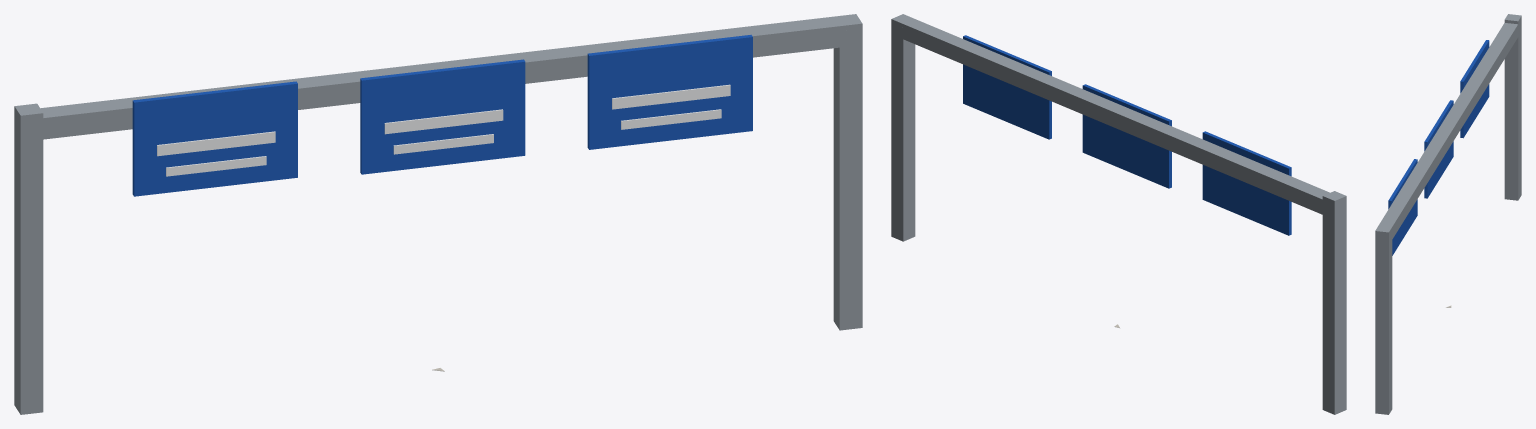
File: apt_gantry.glb
3 renders of one model, left to right at view 1: azimuth 30°, elevation 25°; view 2: azimuth 150°, elevation 25°; view 3: azimuth 270°, elevation 25°, orthographic. The views are drawn at different scales.
Visible parts, largest first — view 1: apt_gantry_lod0; view 2: apt_gantry_lod0; view 3: apt_gantry_lod0.
Boxes of the visible parts, left/top/right/bottom form: apt_gantry_lod0: left=14, top=14, right=862, bottom=414; apt_gantry_lod0: left=891, top=14, right=1346, bottom=414; apt_gantry_lod0: left=1375, top=14, right=1521, bottom=414.
Size of what is drawn, in the model's own units: 18.02 by 7.31 by 5.18.
